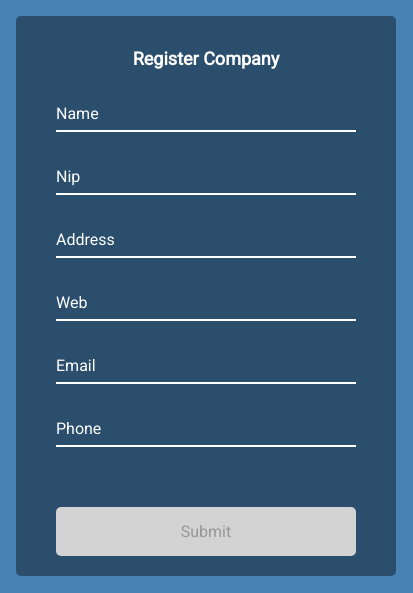
Test case: Testing Form Company › Name input should be required
Step 1. Type "Hola" into the field with test id "name-input" → x=206, y=111, box top-left (56, 89), bottom-right (356, 132)
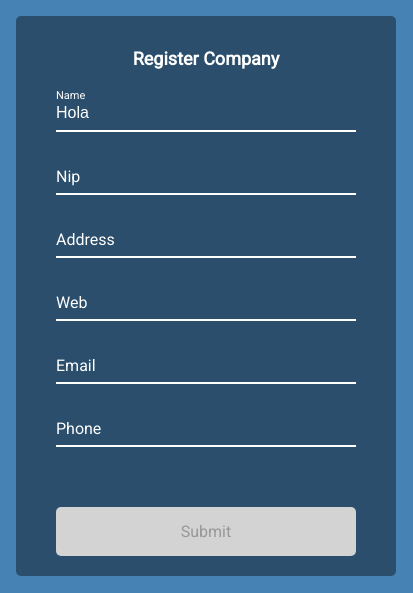
Step 2. Clear the field with test id "name-input" → x=206, y=111, box top-left (56, 89), bottom-right (356, 132)
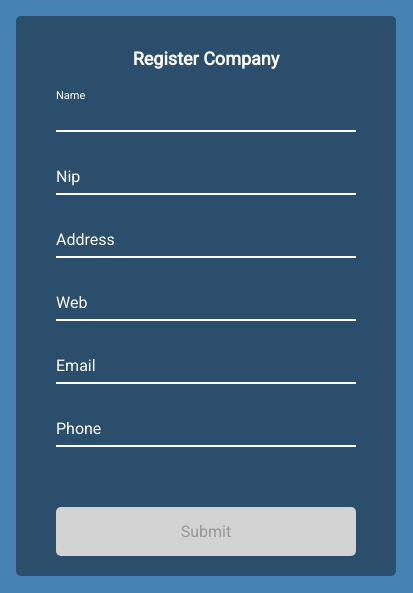
Step 3. Leave the field with test id "name-input", box top-left (56, 89), bottom-right (356, 132)
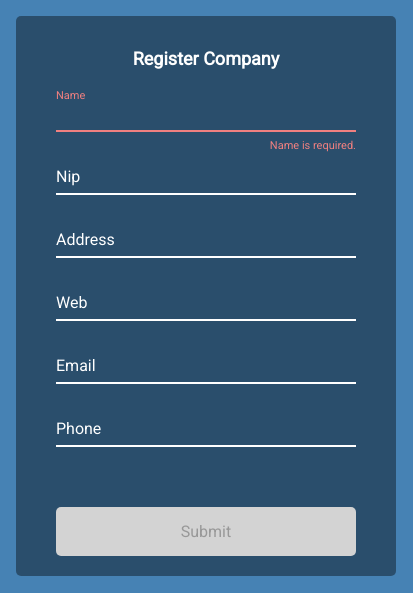
Check: the text "Name is required." is shown, box top-left (270, 139), bottom-right (356, 152)
